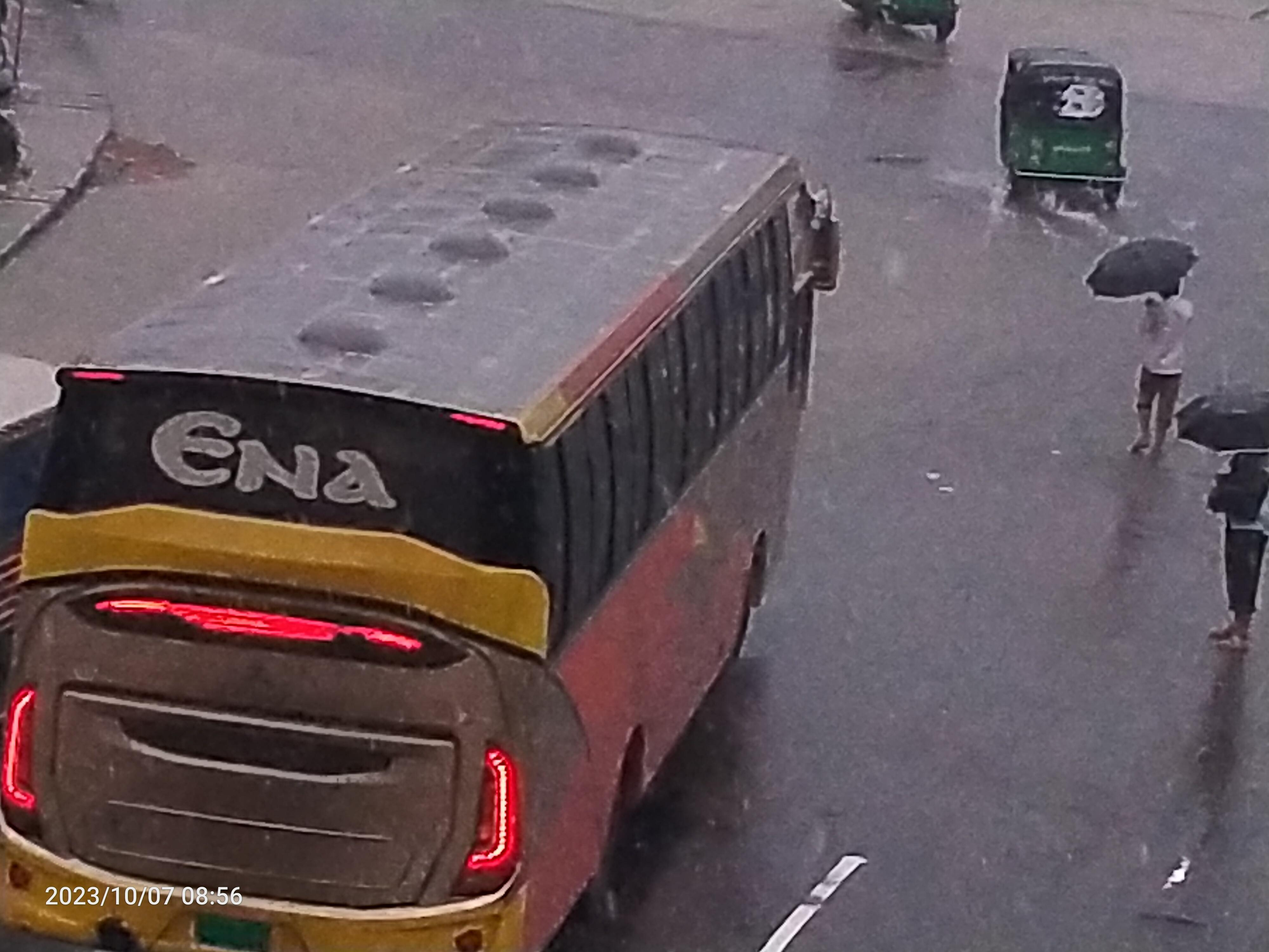Bus: (0, 107, 930, 952)
